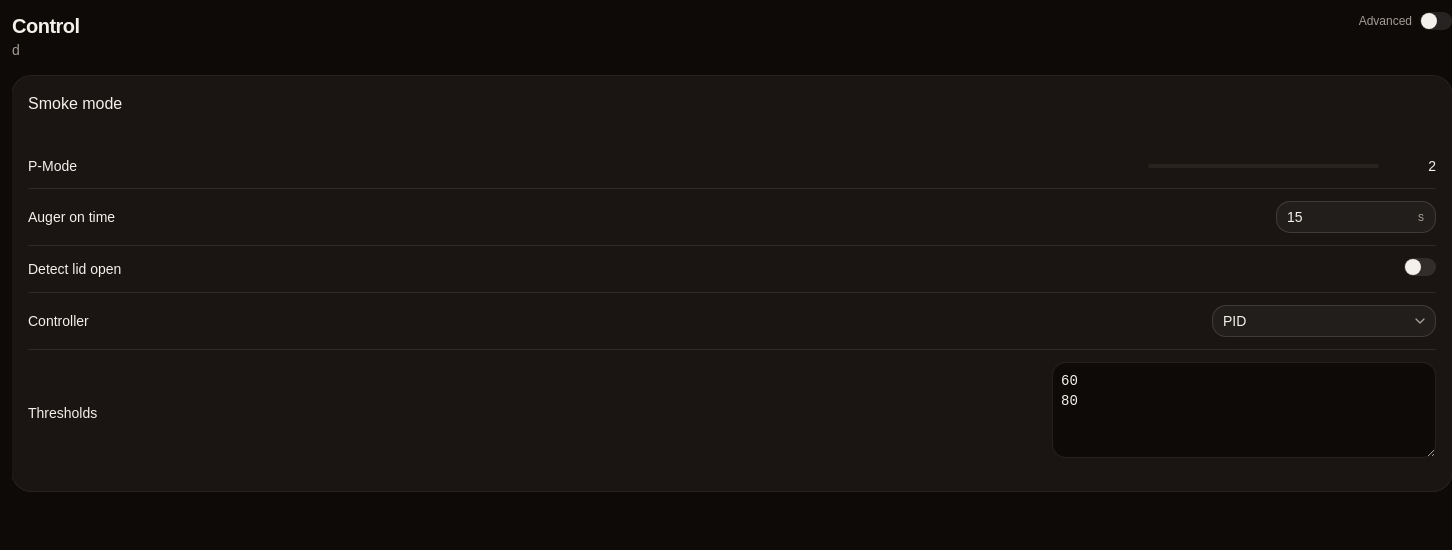
Test: SchemaSectionForm › shows the save bar only when dirty and sends a nested patch
Expected: the text "Save" is not shown
Replace the text in the number field labelled "Auger on time" with "20". click: (1356,217)
box: [1276, 201, 1436, 233]
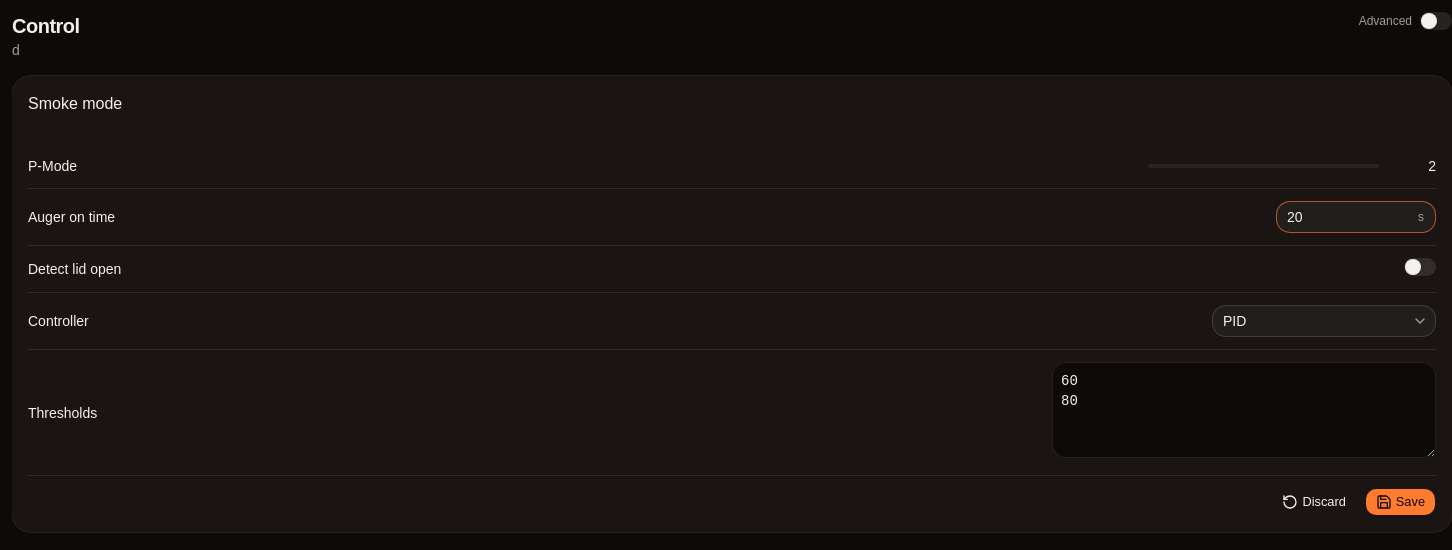
Click the button "Save". click: (1400,502)
box: [1365, 488, 1436, 516]
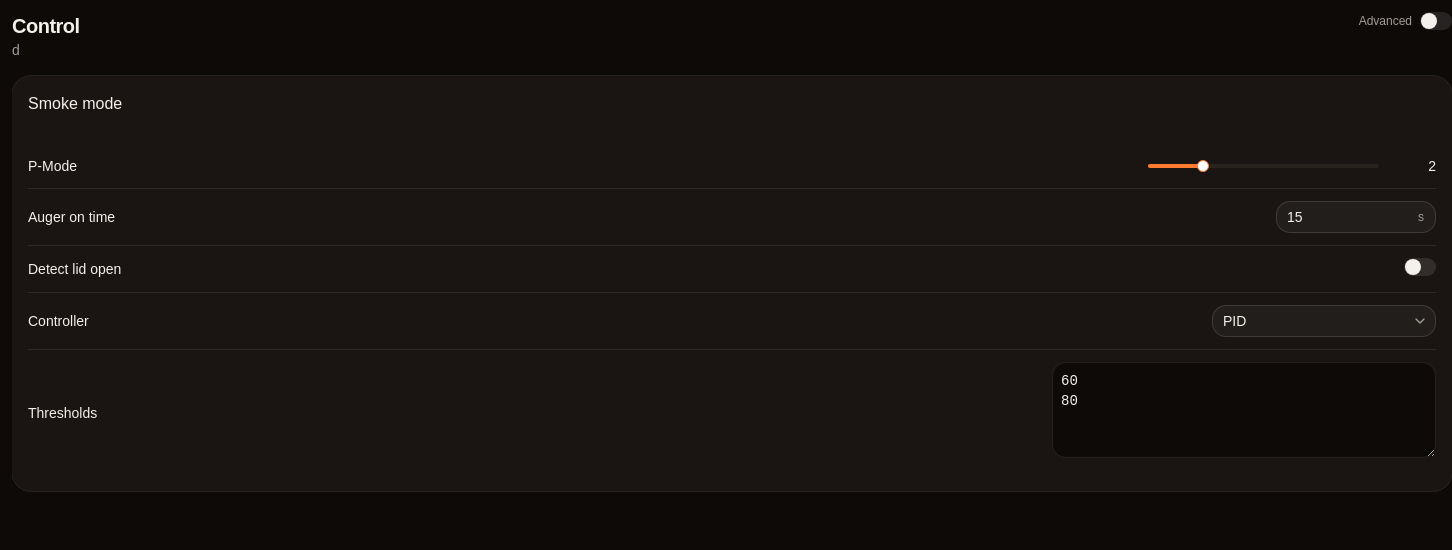
Expected: the button "Save" is gone
